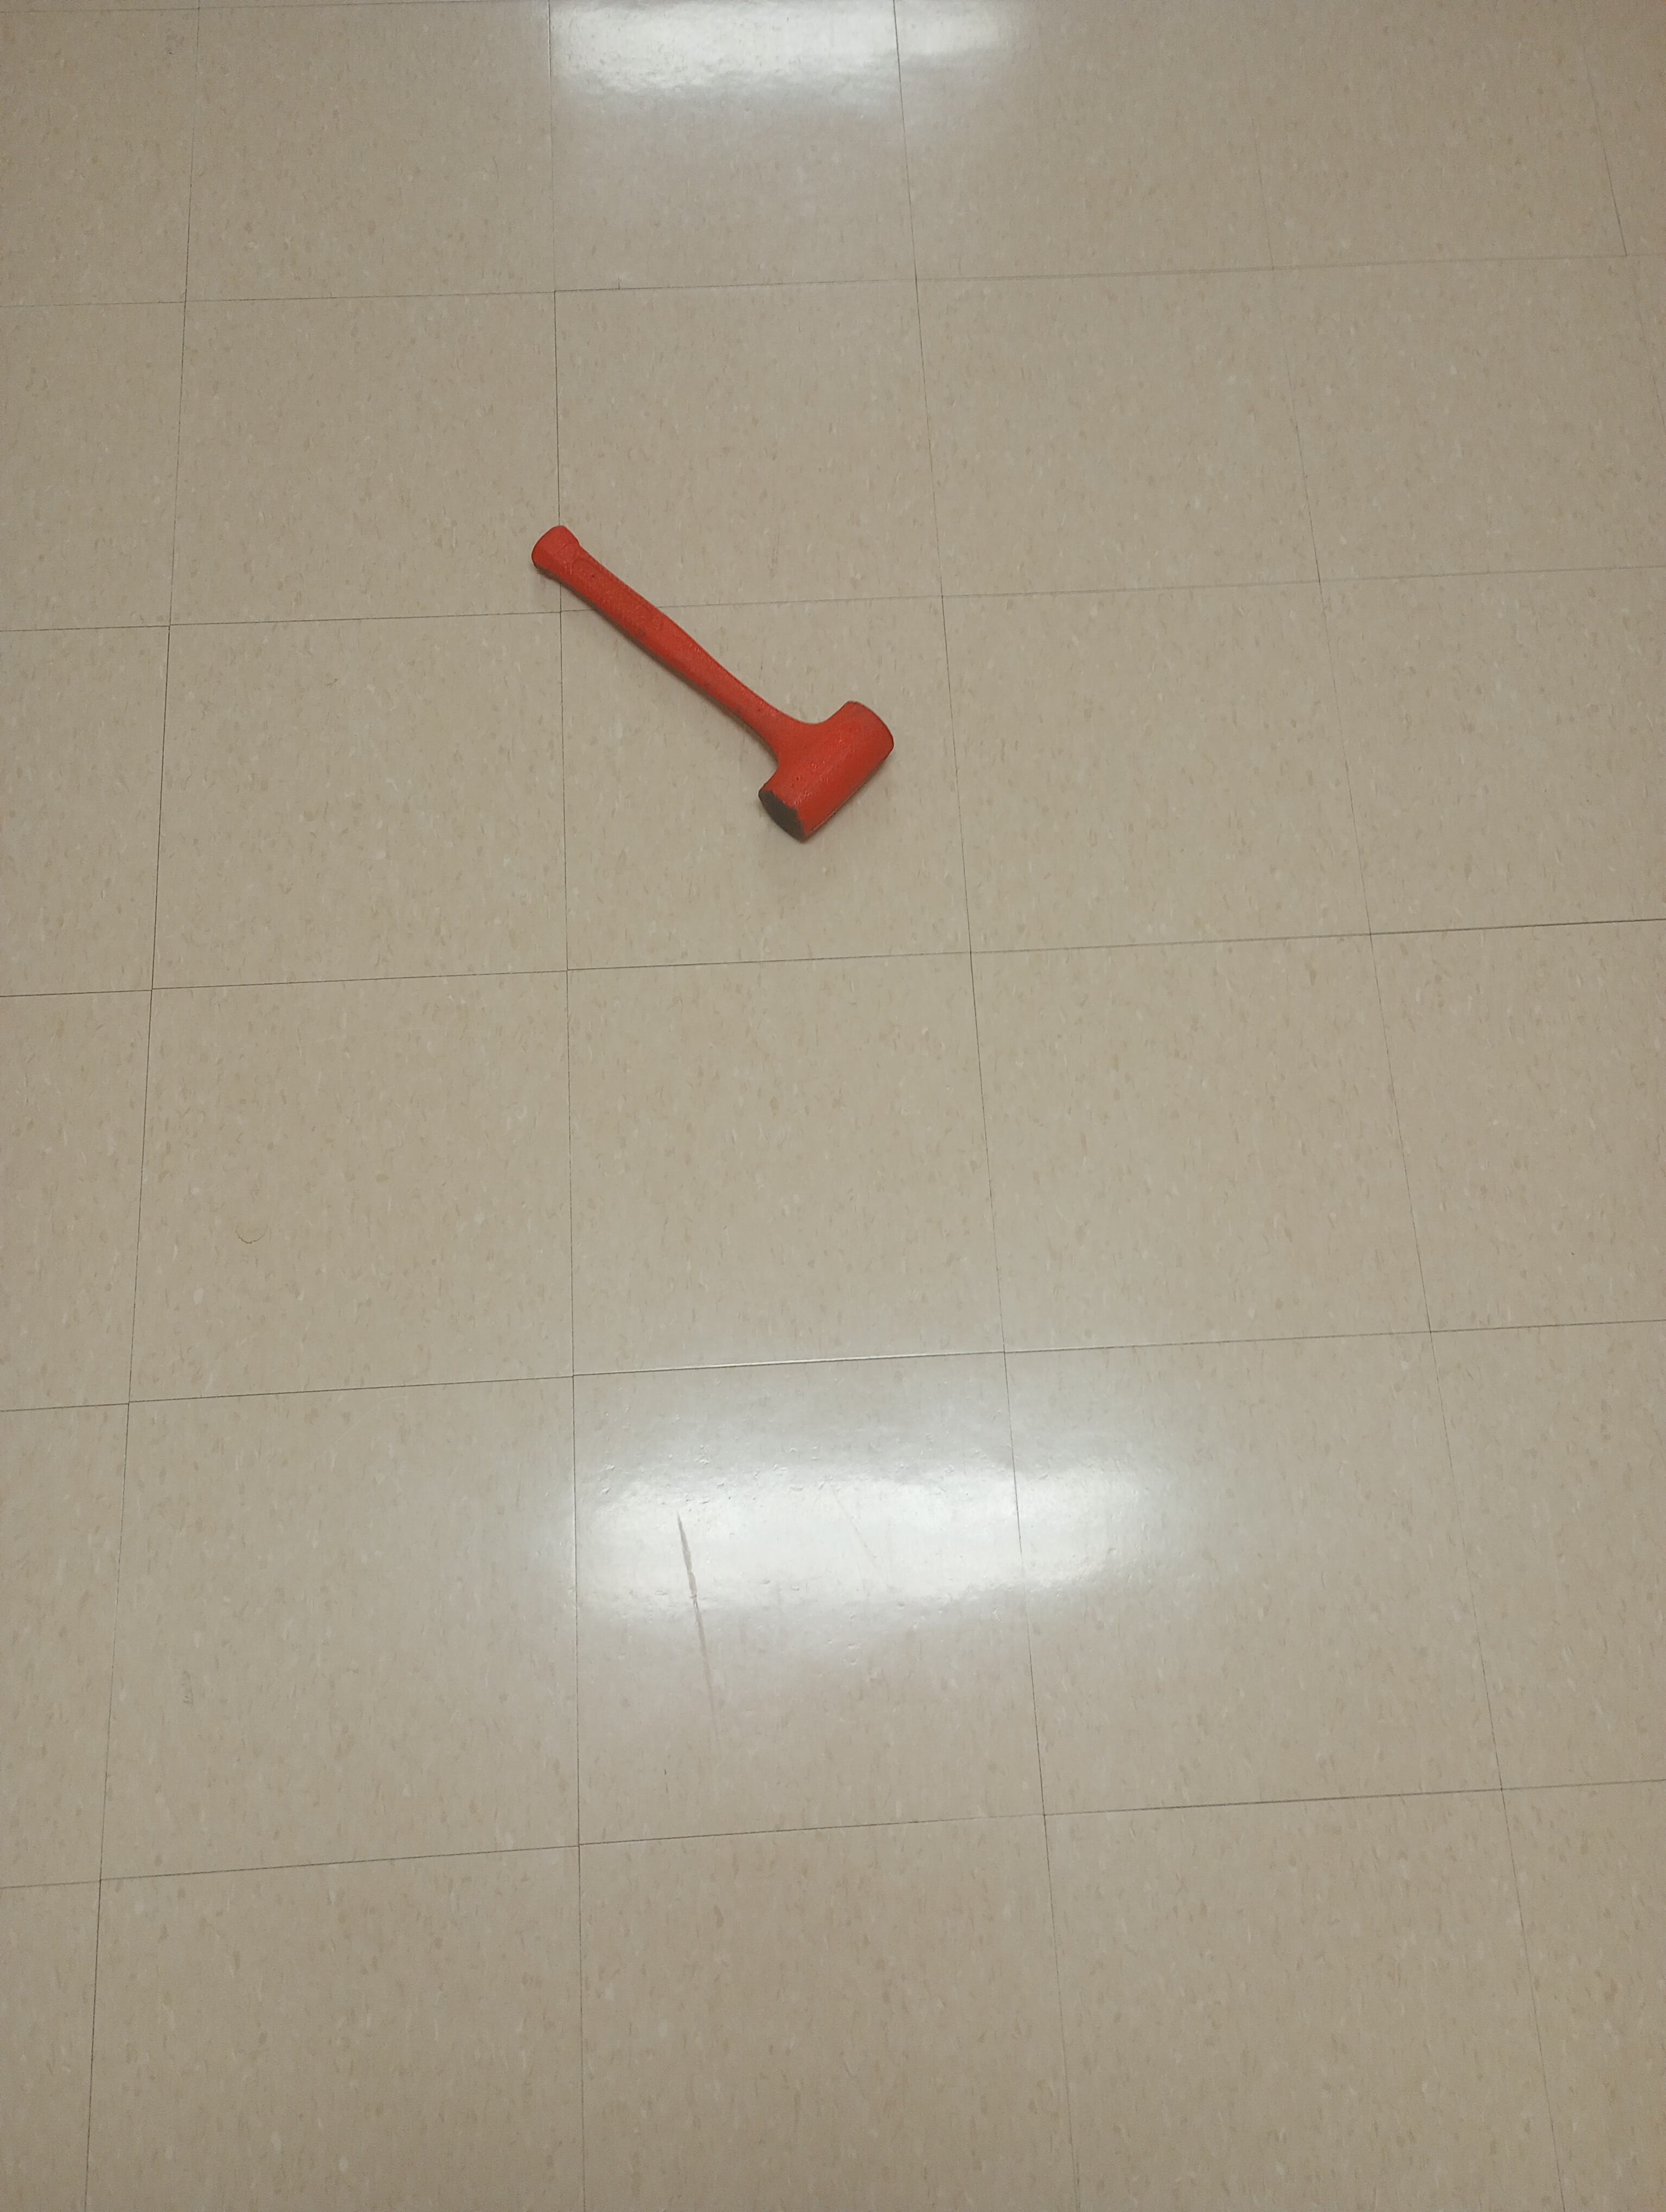bottle: (527, 504, 901, 853)
